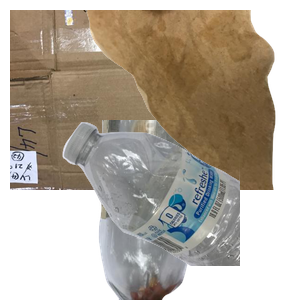cardboard: (10, 10, 250, 190)
glass: (96, 120, 283, 300)
plastic: (60, 120, 300, 300)
trash: (84, 10, 300, 190)
